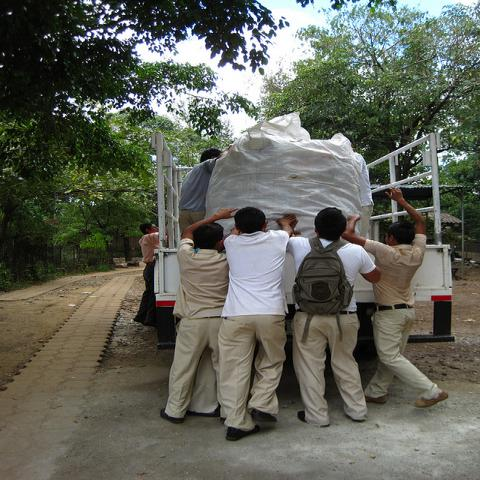truck: (135, 106, 462, 351)
